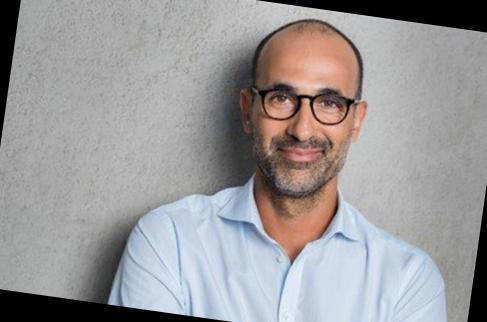Sober: (260, 49, 350, 181)
